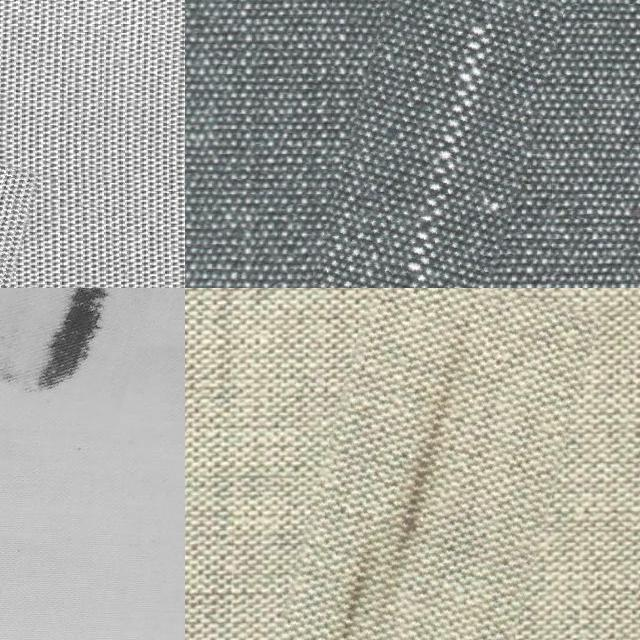Thread_other: (0, 288, 150, 423)
stains: (283, 288, 571, 640), (318, 0, 542, 288)
